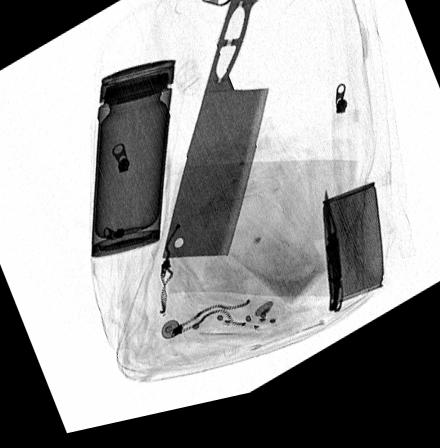Knife: (161, 0, 269, 266), (322, 204, 343, 327)
